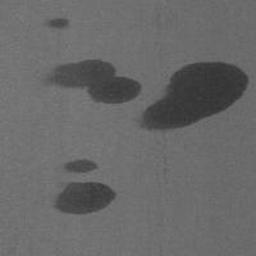Oil spot: (140, 61, 250, 131), (42, 59, 143, 105), (52, 180, 118, 215), (63, 159, 99, 174), (42, 18, 72, 29)
